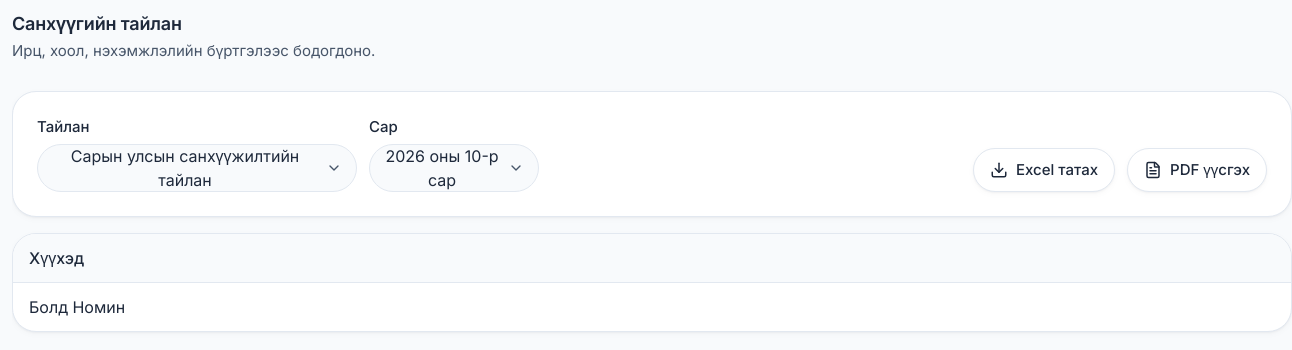
it: the PDF export › turns into a download once the job is finished
Click the button "PDF үүсгэх" at x=1197, y=170, box [1127,148,1267,192]
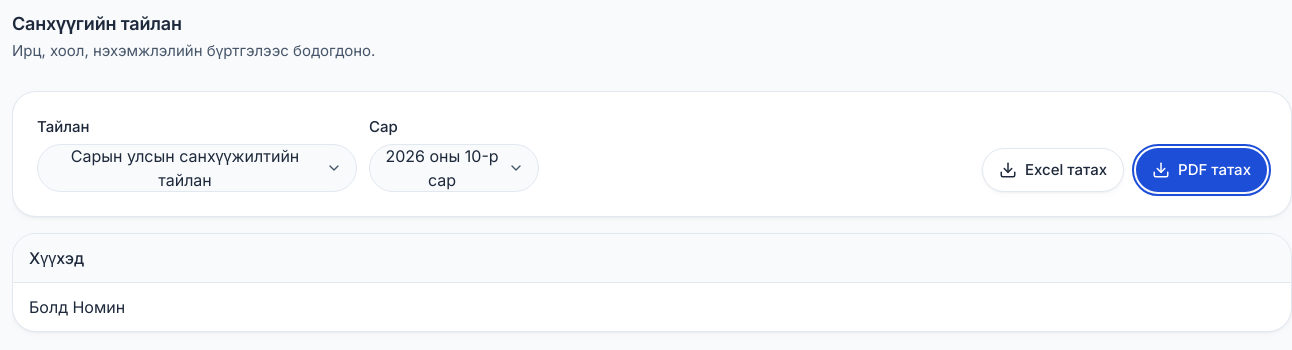
Expected: the button "PDF татах" is shown, [1136,148,1267,192]
